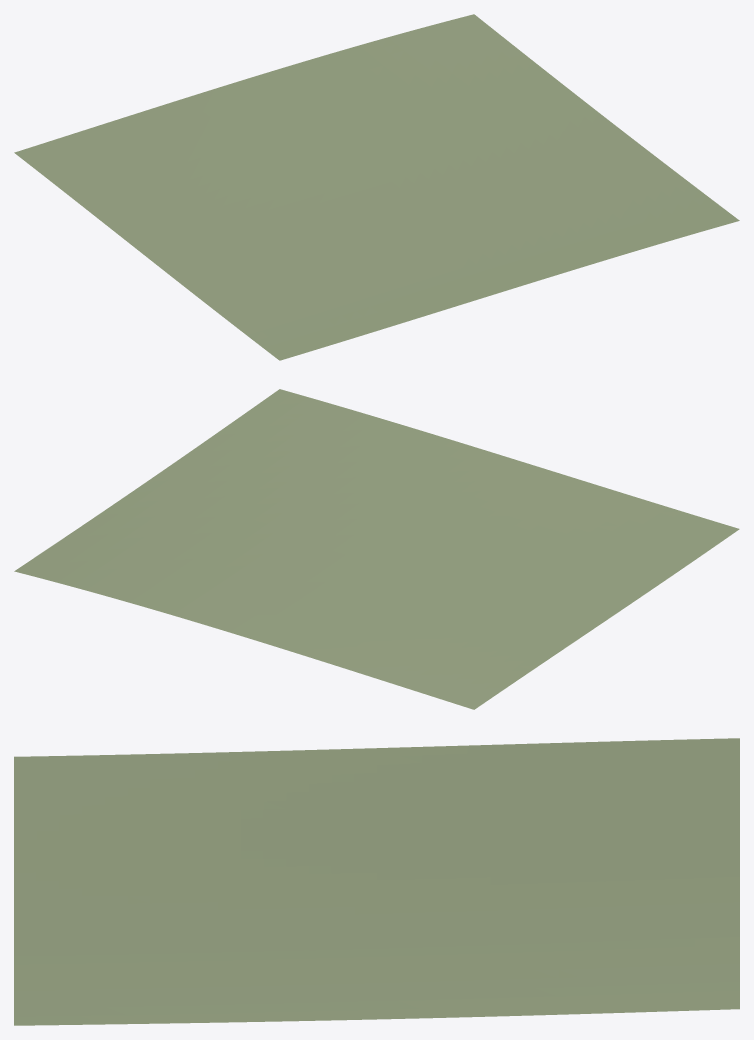
The model's file is expanse-21-16.glb.
3 renders of one model, top to bottom at view 1: azimuth 30°, elevation 25°; view 2: azimuth 150°, elevation 25°; view 3: azimuth 270°, elevation 25°, orthographic. The views are drawn at different scales.
Visible parts, largest first — view 1: expanse-21-16; view 2: expanse-21-16; view 3: expanse-21-16.
Boxes of the visible parts, bbox=[...] form: expanse-21-16: bbox=[14, 14, 739, 360]; expanse-21-16: bbox=[14, 389, 739, 709]; expanse-21-16: bbox=[14, 738, 739, 1025].
Bounding box in the file's own units: 256 × 21.17 × 256.
